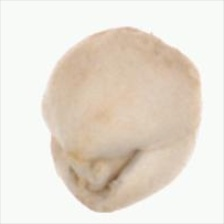L3: (58, 141, 138, 196)
L4: (41, 28, 202, 213)
